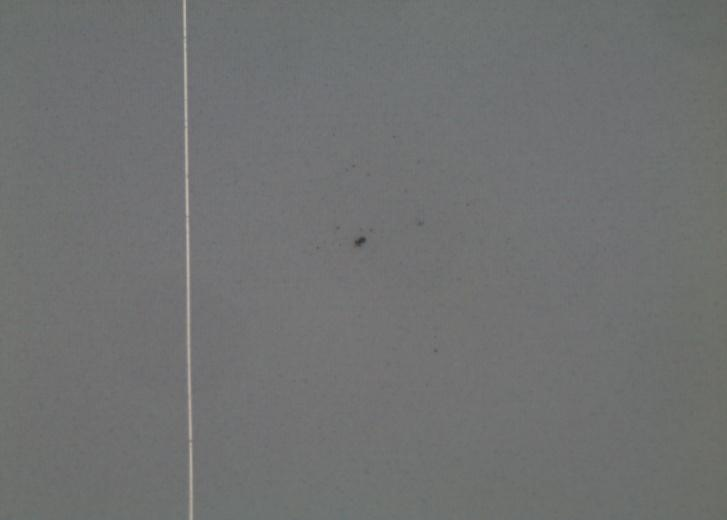PIQ PARTICLE: (309, 126, 522, 361)
